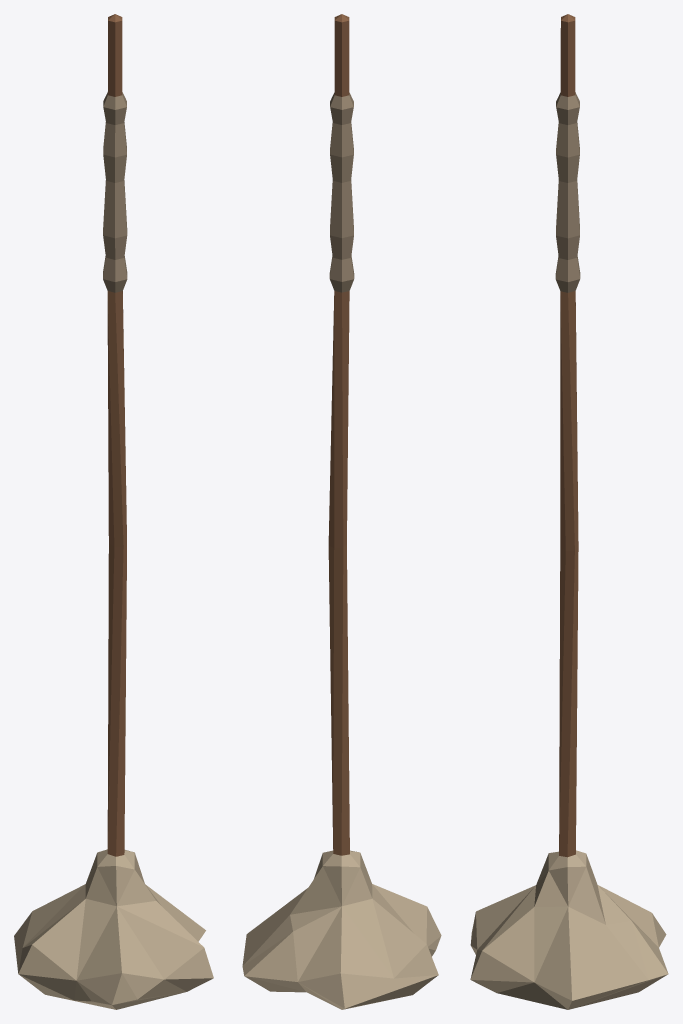
The model's file is SM_Prop_Scrub_Mop_01.glb.
3 views of the same model, side by side, from view 1: azimuth 30°, elevation 25°; view 2: azimuth 150°, elevation 25°; view 3: azimuth 270°, elevation 25° (orthographic).
Parts seen in each view (by area): view 1: SM_Prop_Scrub_Mop_01; view 2: SM_Prop_Scrub_Mop_01; view 3: SM_Prop_Scrub_Mop_01.
Part boxes in pixels (box(x1,y1,x2,y2)): SM_Prop_Scrub_Mop_01: box(14, 14, 213, 1009); SM_Prop_Scrub_Mop_01: box(242, 14, 441, 1009); SM_Prop_Scrub_Mop_01: box(470, 14, 668, 1009).
Size of the model in its own units: 0.00378 by 0.0183 by 0.00341.
